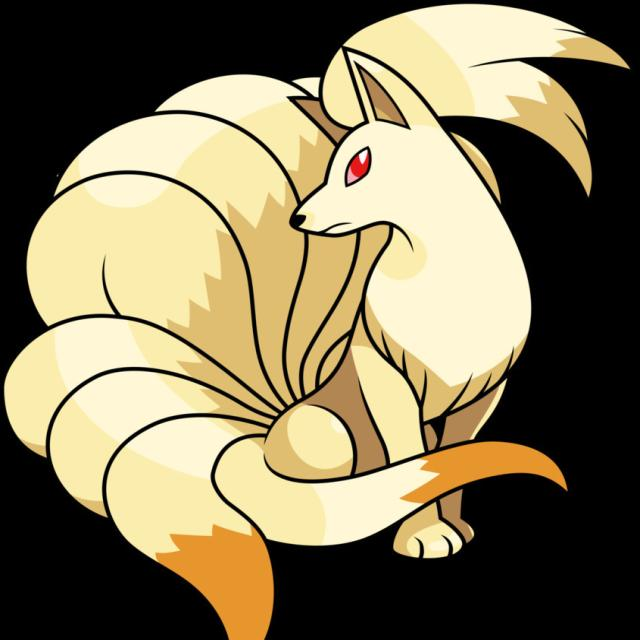Ninetales: (36, 44, 544, 566)
